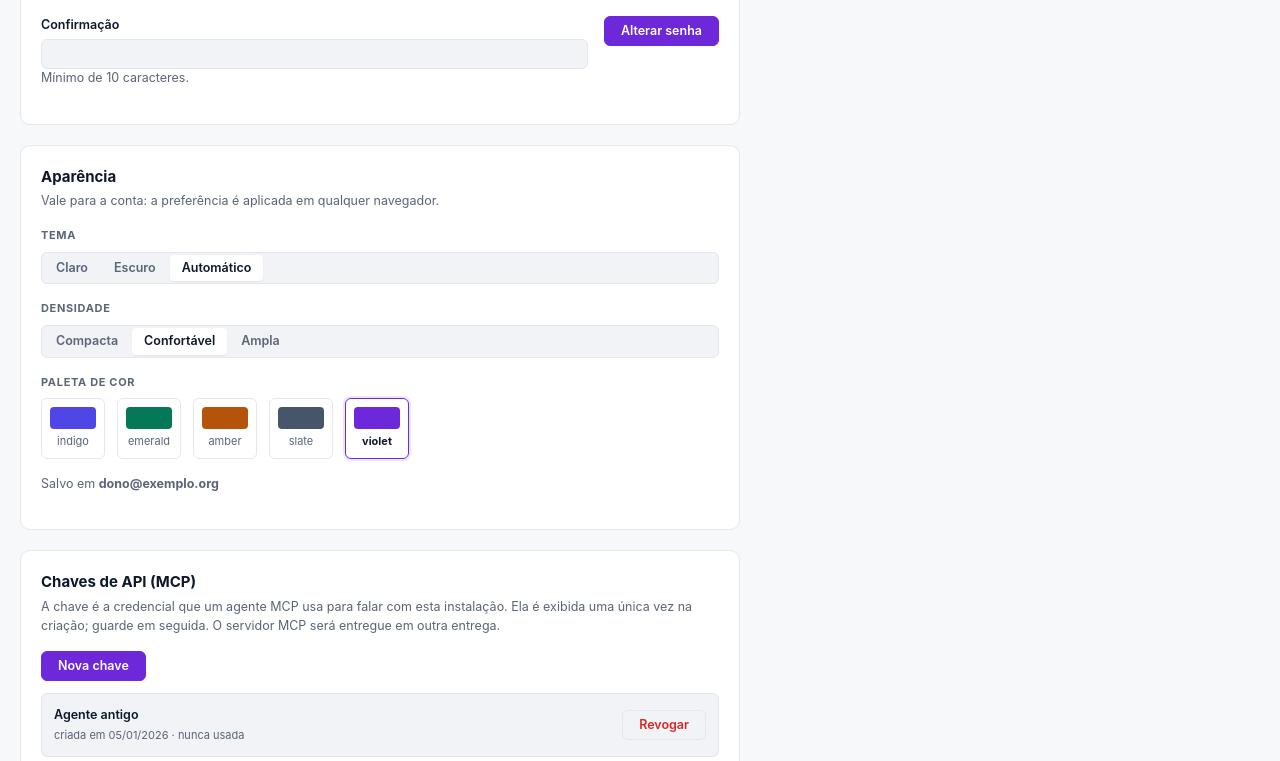
it: AccountPage › cria uma chave e mostra o valor uma única vez
This screenshot has width=1280, height=761.
(page scrolled)
Click the button with test id "api-key-new" at (93, 666), box [41,651,146,681]
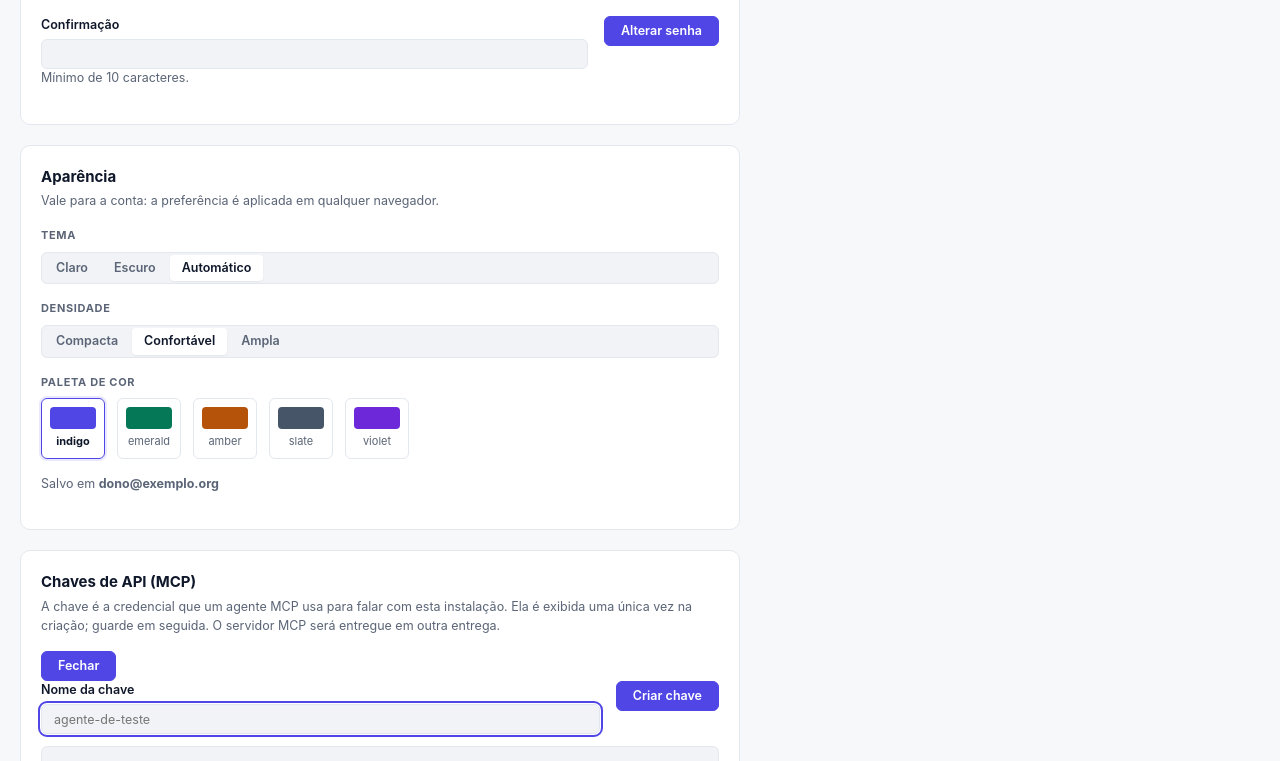
Type "Agente novo" into the field with test id "api-key-name" at (320, 719), box [41,704,600,734]
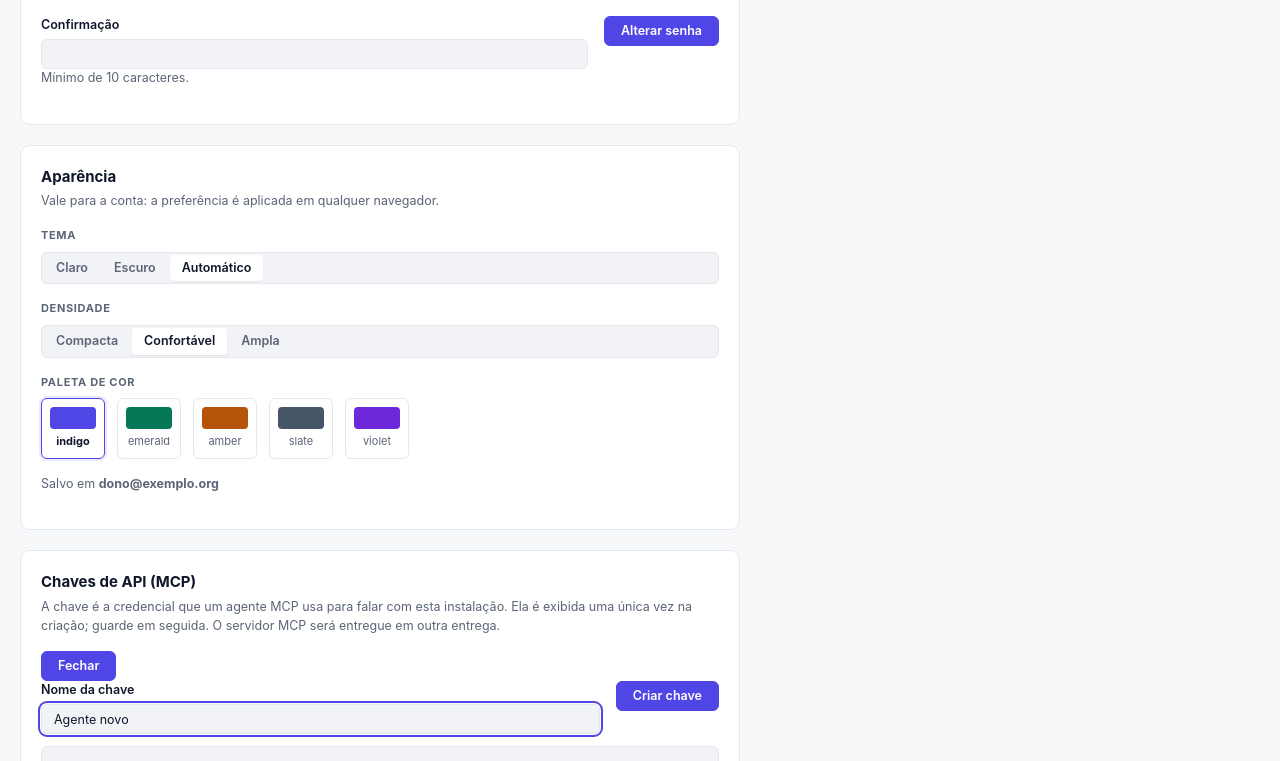
Submit the form with test id "api-key-create", box [41,681,719,734]
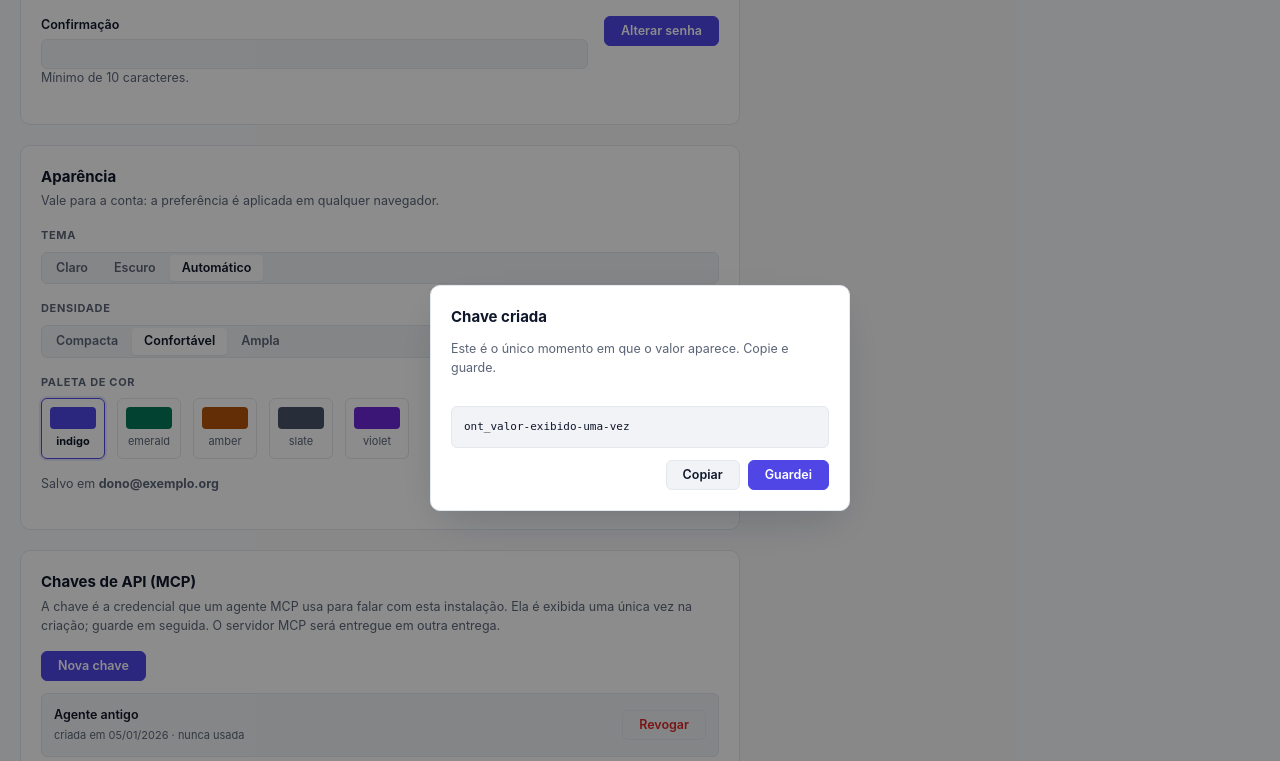
Result: the text with test id "api-key-created-value" reads "ont_valor-exibido-uma-vez" at [464,420,630,433]
Click the button with test id "api-key-created-close" at (788, 475), box [748,460,829,490]
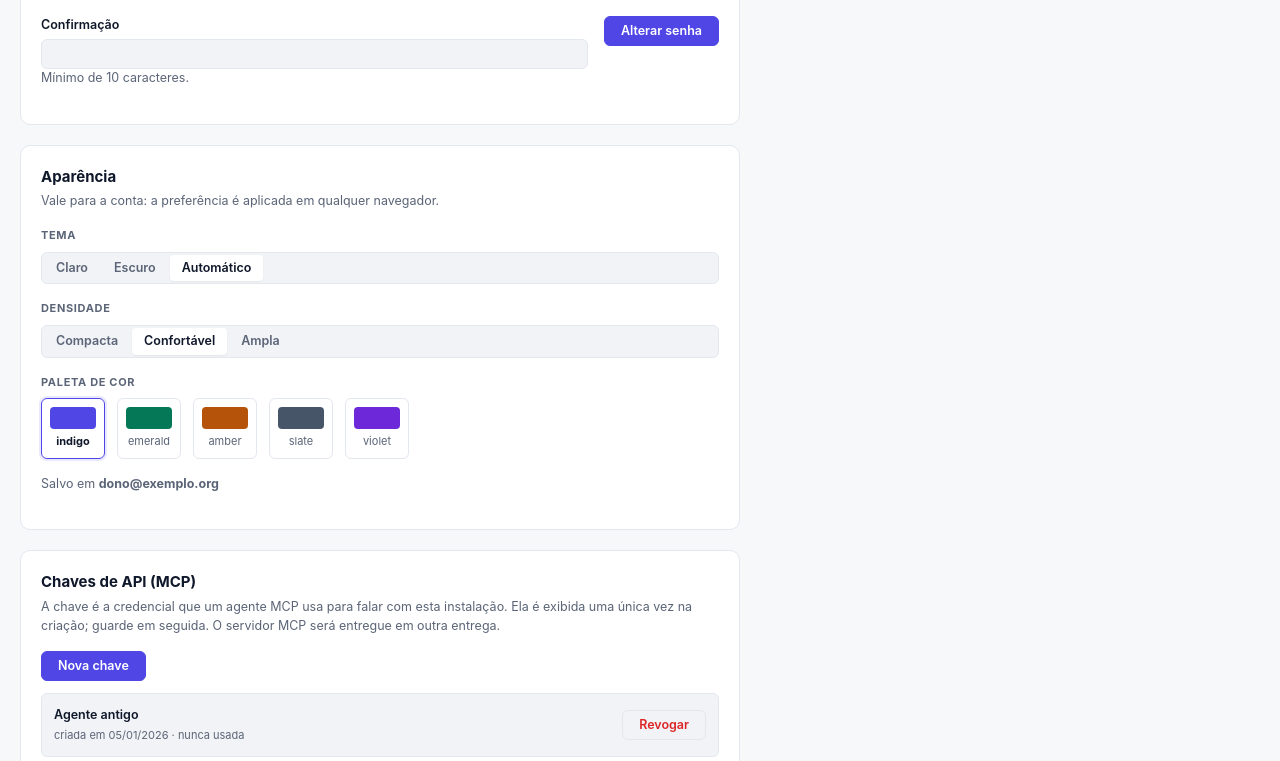
Result: no elements with test id "api-key-created-value" are shown
